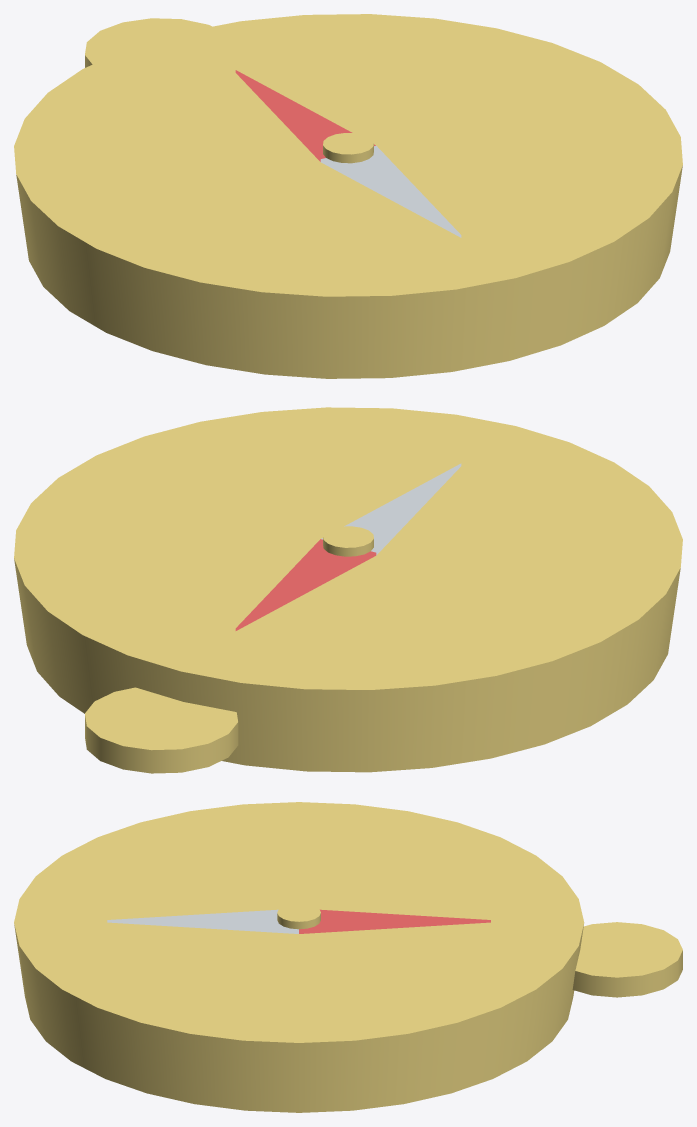
The model's file is vintage_compass.glb.
3 views of the same model, one above another, from view 1: azimuth 30°, elevation 25°; view 2: azimuth 150°, elevation 25°; view 3: azimuth 270°, elevation 25° (orthographic). The views are drawn at different scales.
Parts seen in each view (by area): view 1: VintageCompass; view 2: VintageCompass; view 3: VintageCompass.
Boxes of the visible parts, x1,y1,x2,y2 form: VintageCompass: (14,14,682,378); VintageCompass: (14,407,682,773); VintageCompass: (14,802,682,1112).
Bounding box in the file's own units: 1.04 × 0.17 × 1.22.
